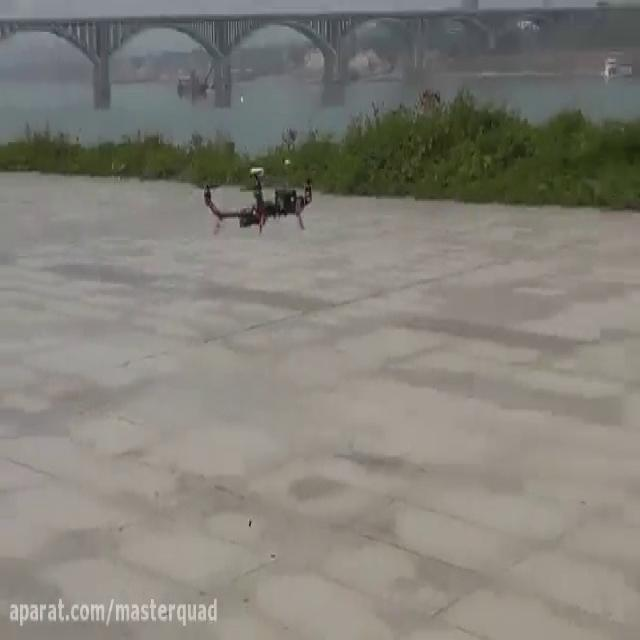drone: (191, 153, 321, 235)
